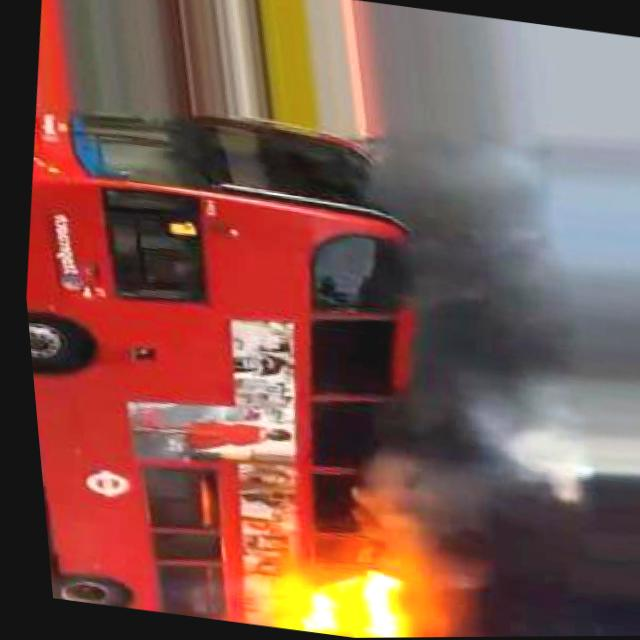helmet: (267, 553, 404, 639)
no_helmet: (339, 155, 640, 638)
